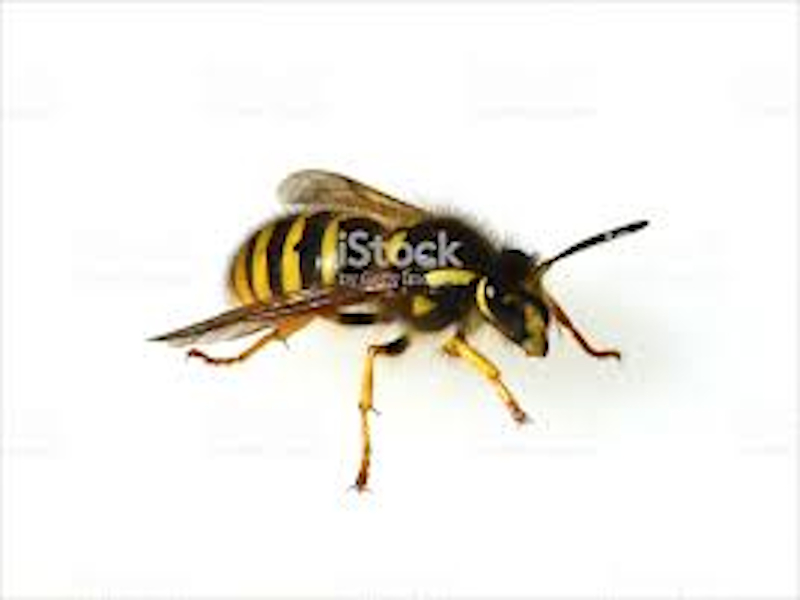chax: (155, 151, 673, 467)
